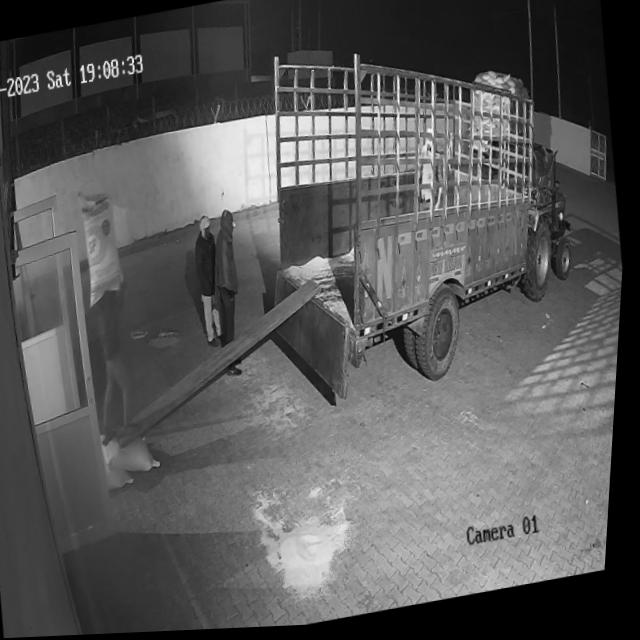sack: (74, 186, 135, 308), (106, 432, 169, 480)
